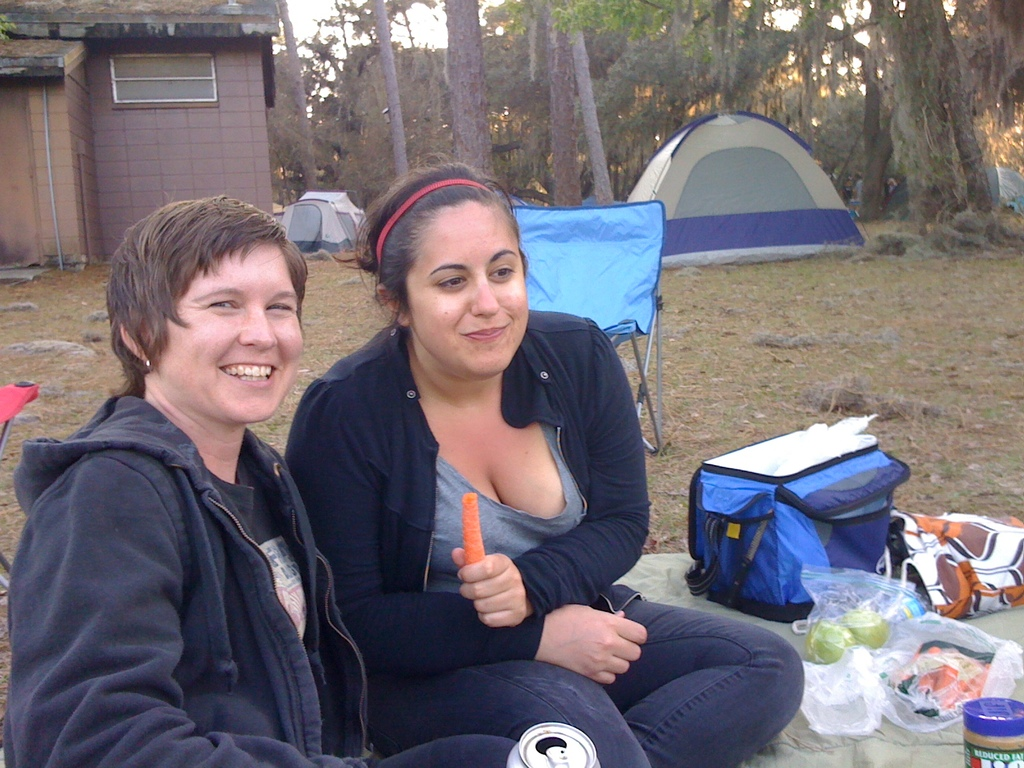Tree: (801, 0, 908, 220), (559, 0, 673, 204), (482, 0, 588, 208), (909, 0, 992, 220), (672, 0, 800, 120), (944, 0, 1023, 190), (306, 0, 376, 195), (373, 0, 435, 176), (275, 0, 323, 206), (447, 0, 500, 184)
